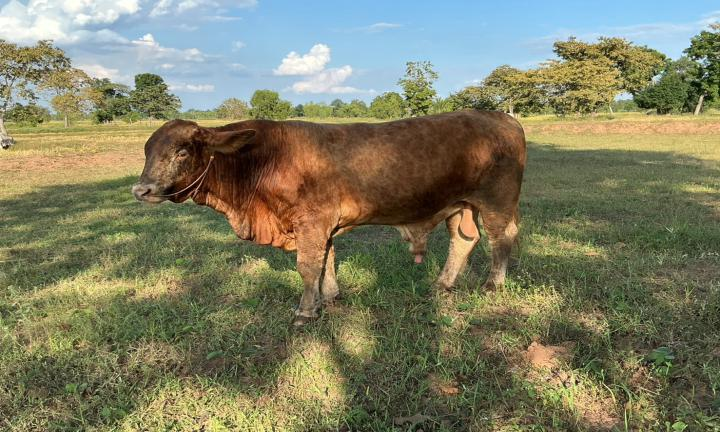Charolais: (133, 110, 525, 324)
